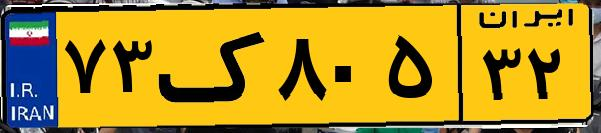0: (330, 28, 385, 110)
2: (525, 38, 570, 115)
3: (475, 38, 525, 113), (110, 28, 158, 98)
5: (385, 28, 445, 110)
7: (57, 26, 110, 100)
8: (270, 28, 330, 110)
ک: (158, 12, 270, 120)
